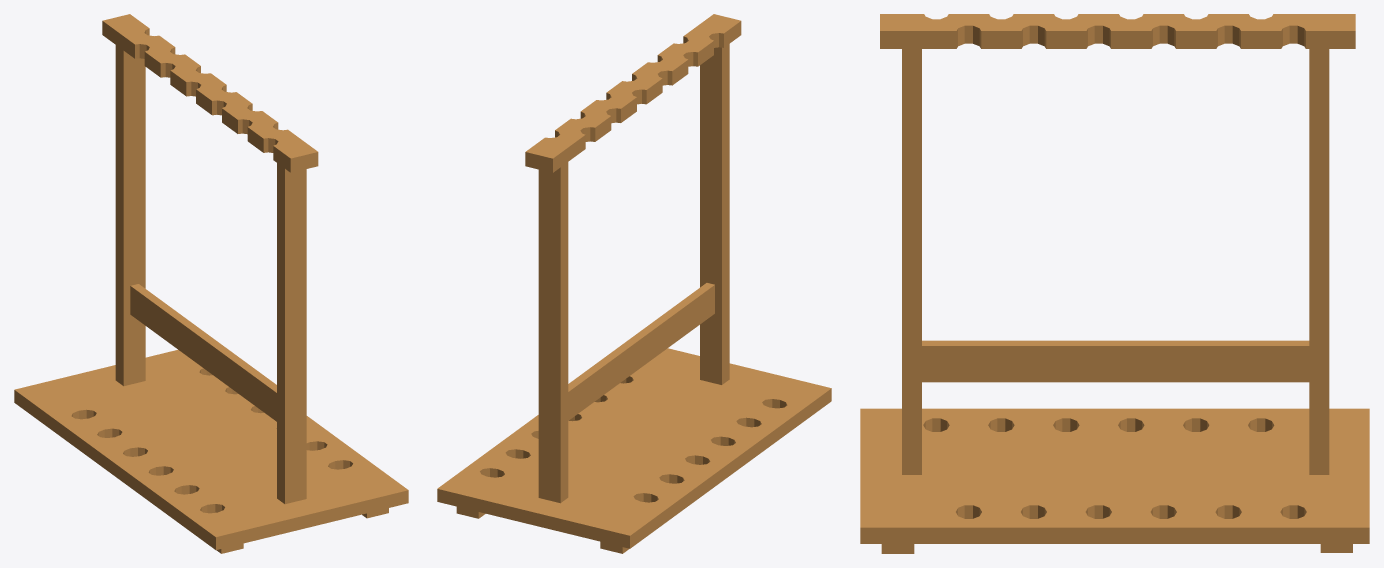
Rendered from Bogenhalter.fbx.
3 renders of one model, left to right at view 1: azimuth 30°, elevation 25°; view 2: azimuth 150°, elevation 25°; view 3: azimuth 270°, elevation 25°, orthographic. The views are drawn at different scales.
Visible parts, largest first — view 1: Bogenständer; view 2: Bogenständer; view 3: Bogenständer.
Part boxes in pixels (x1,y1,x2,y2): Bogenständer: (14,14,408,553); Bogenständer: (437,14,831,553); Bogenständer: (860,14,1369,553).
Bounding box in the file's own units: 1.96 × 3.69 × 3.55.
